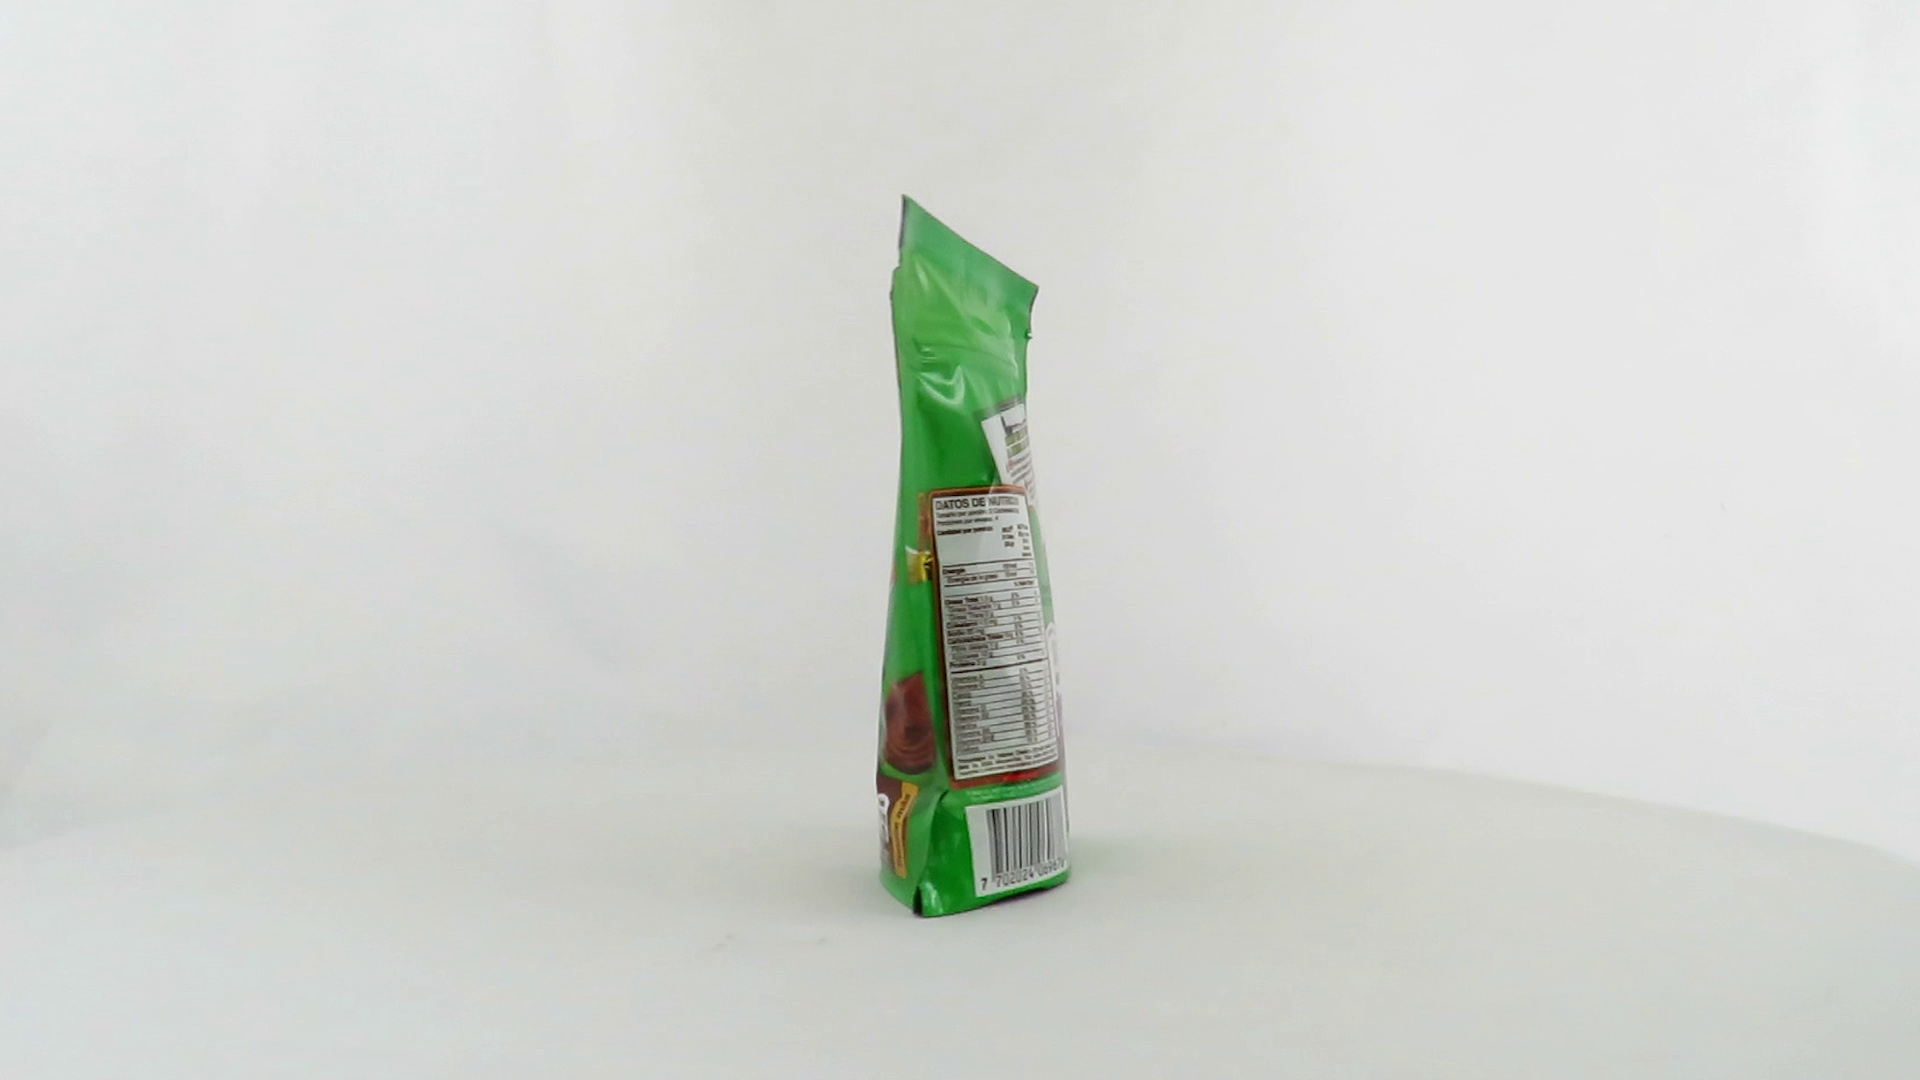COL0170203DYP10000: (872, 189, 1079, 924)
